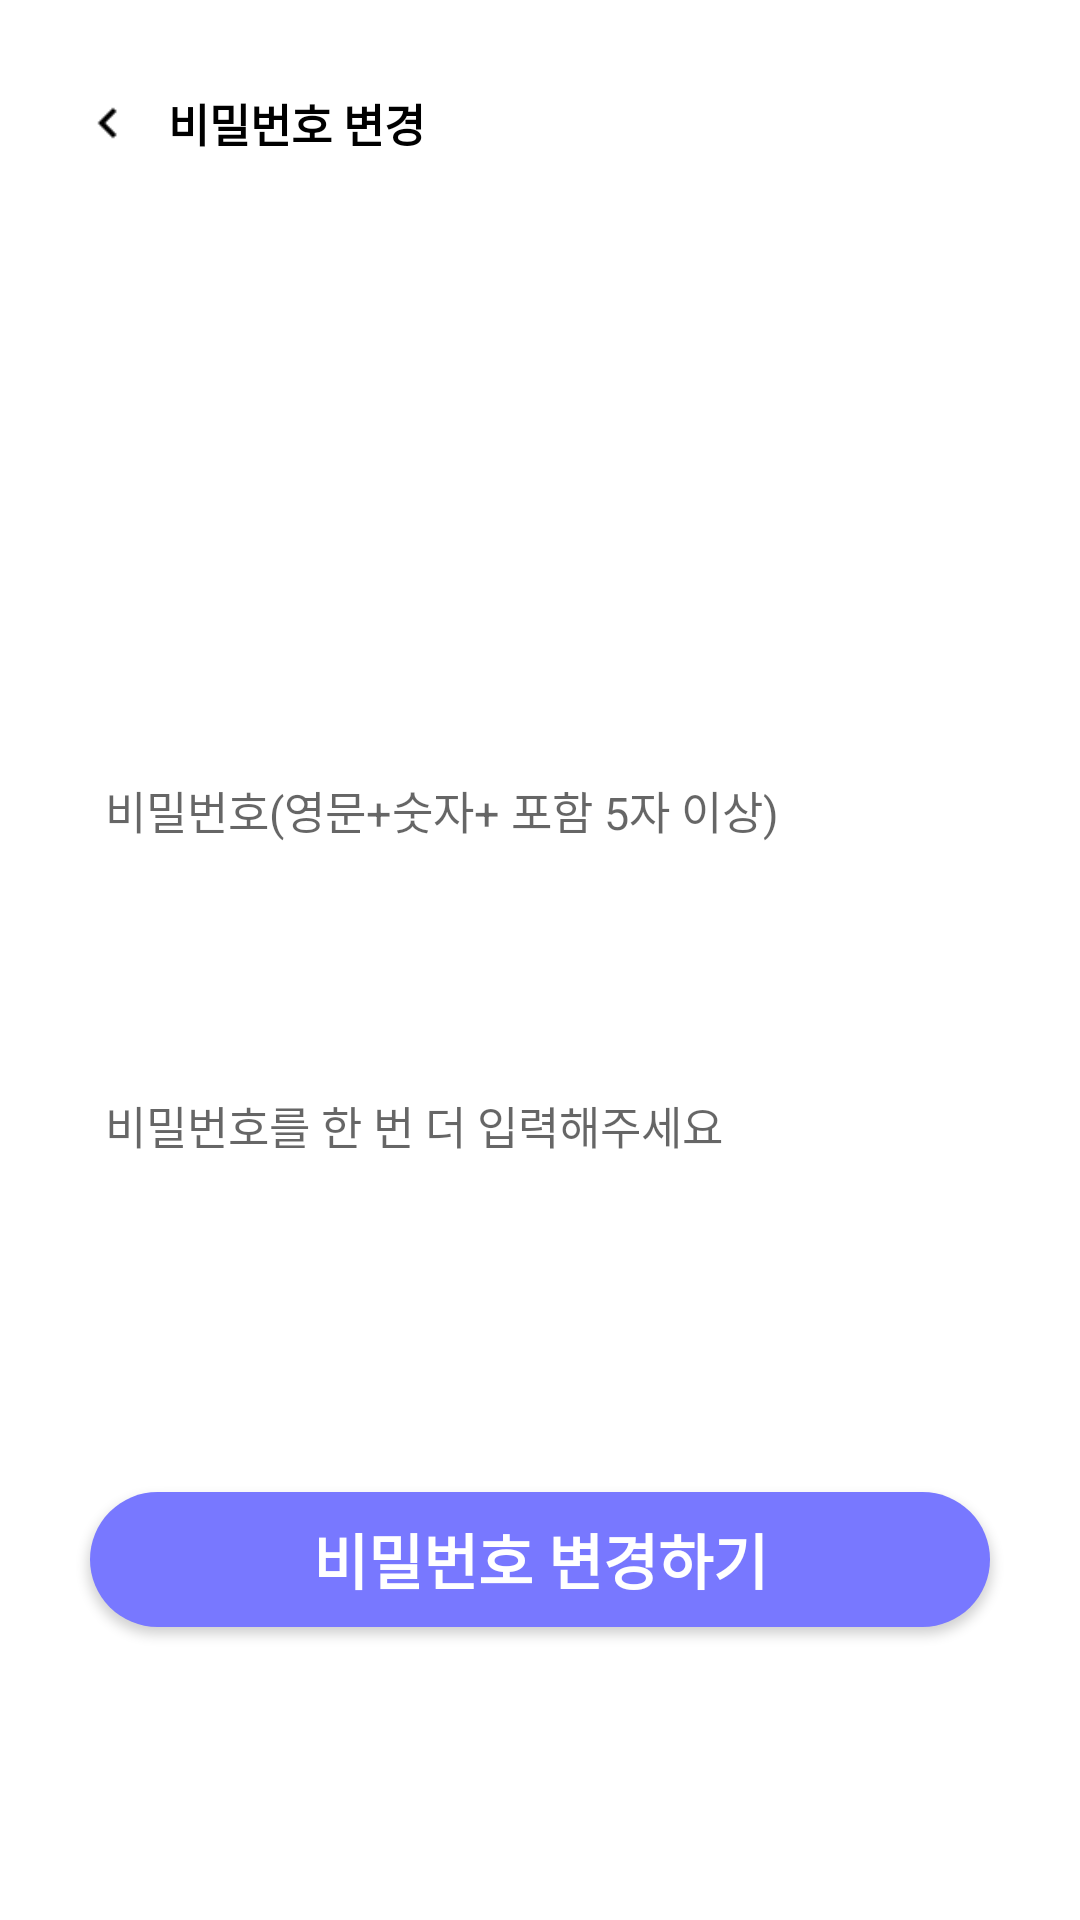

Locate icon controls on the screen. Image size 1080×1920, boxes as (x1, y1, x2, y2).
iconblackleft: (97, 107, 117, 139)
